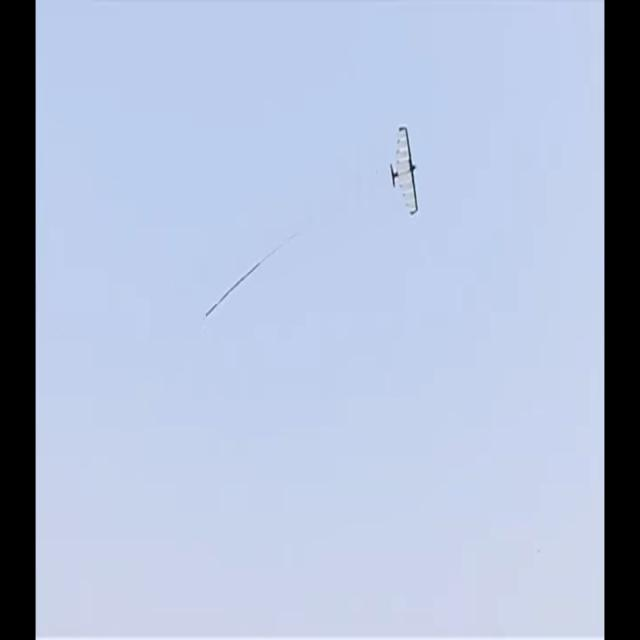iha: (387, 156, 420, 186)
